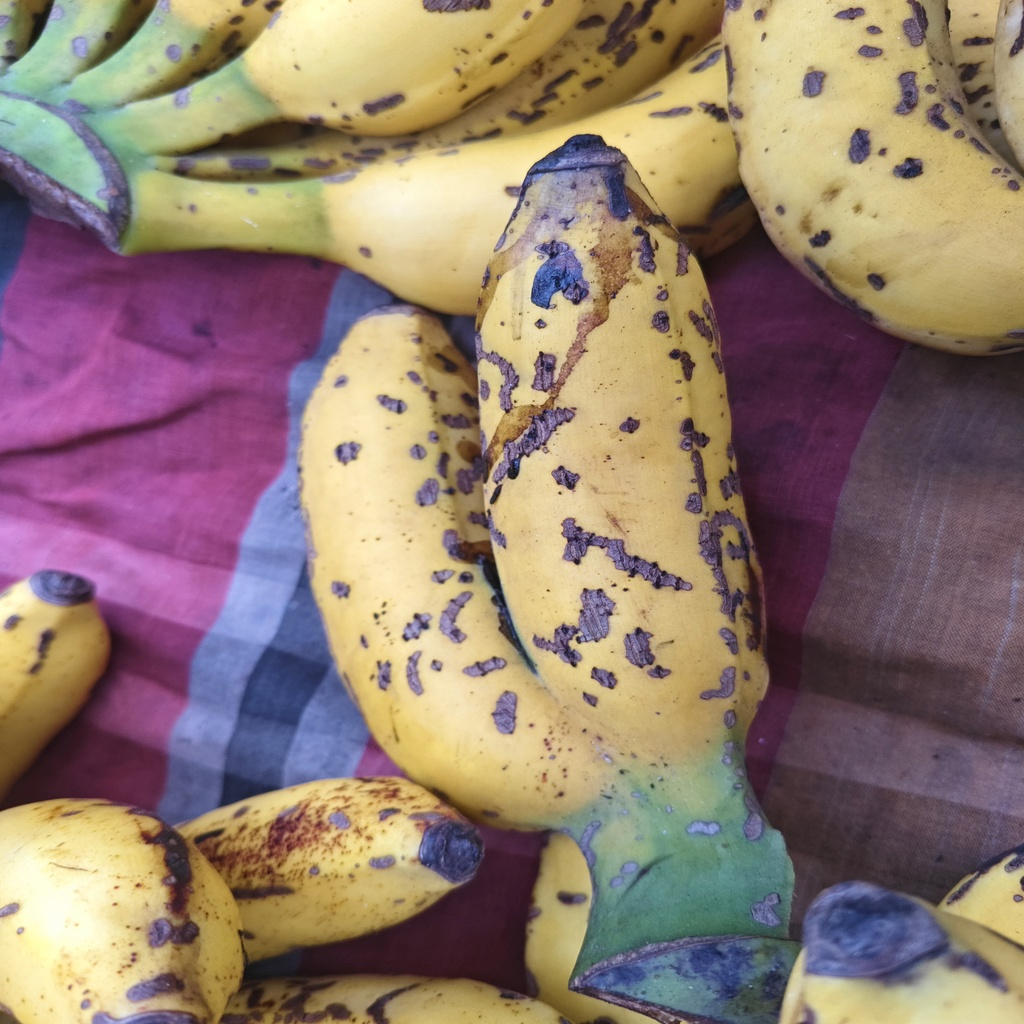unhealthy: (479, 179, 768, 819), (305, 311, 564, 827)
